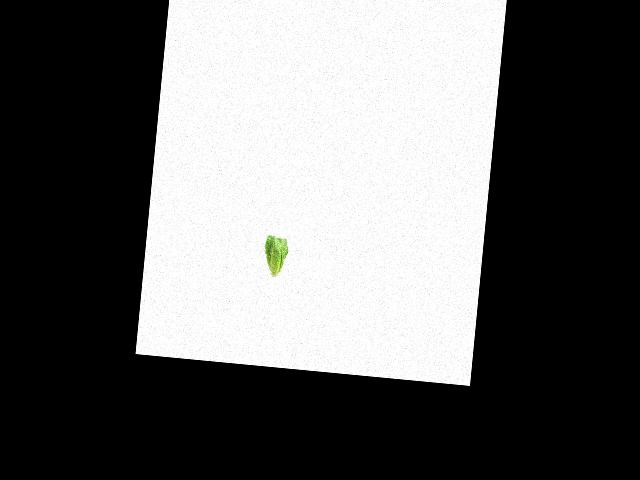lettuce: (258, 232, 293, 280)
